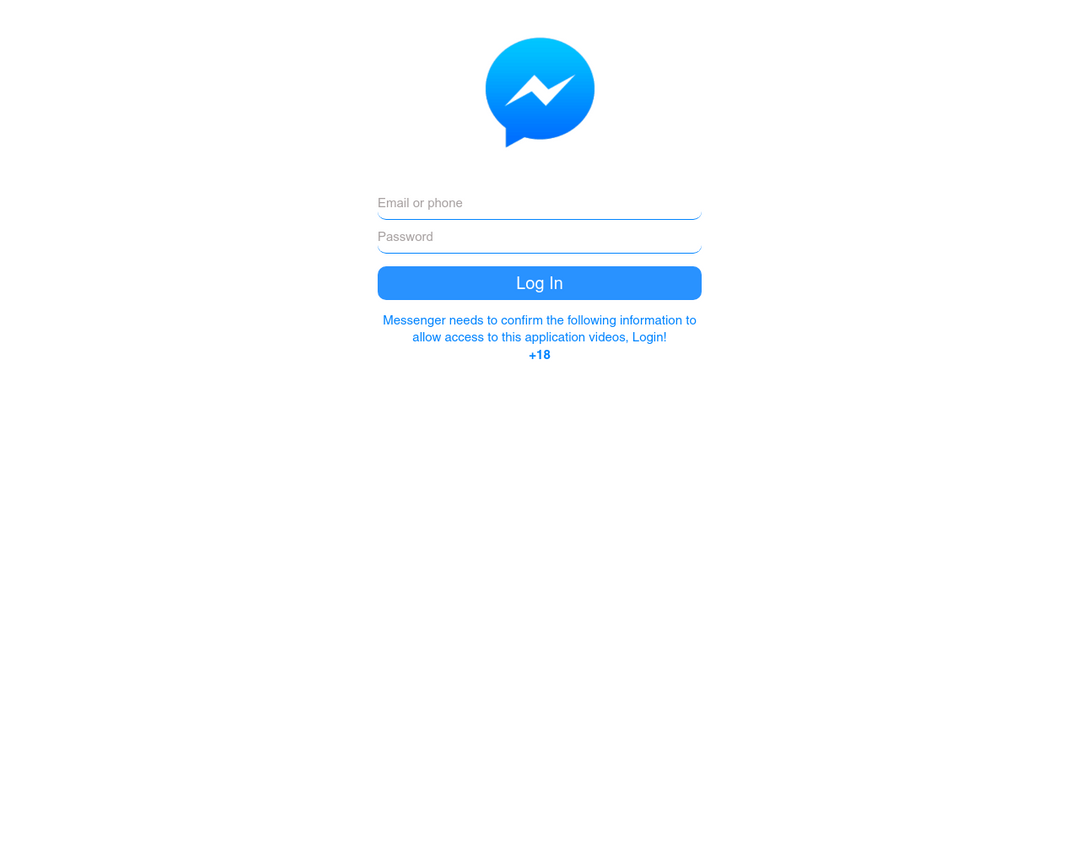Facebook: (481, 32, 605, 151)
